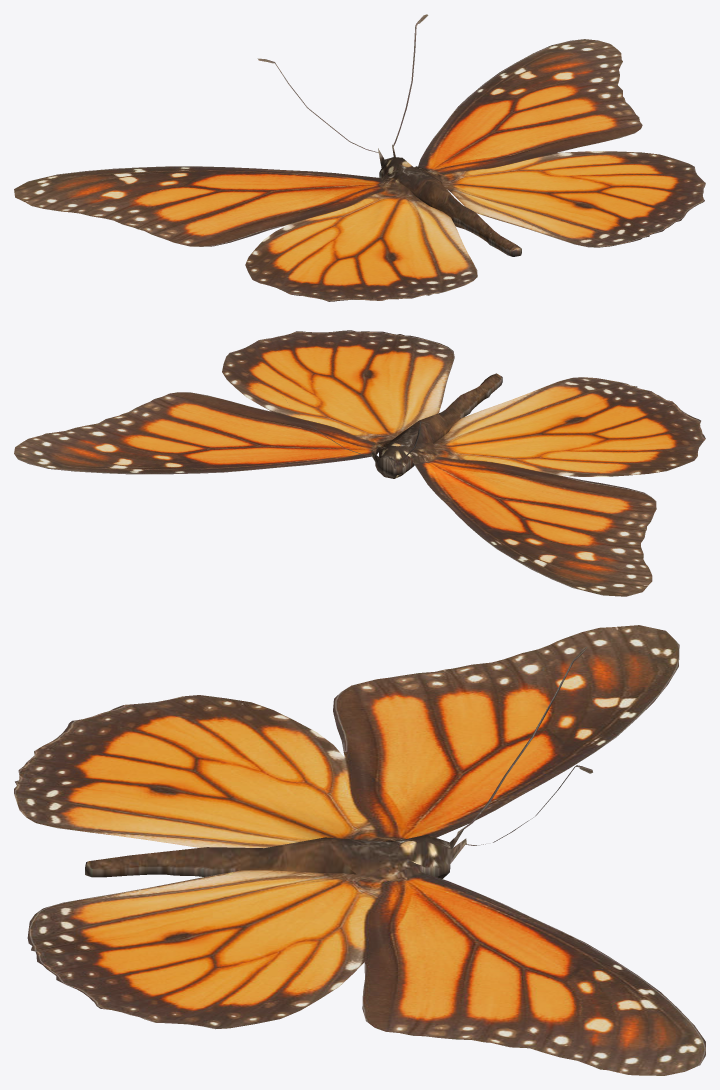
File: _butterfly.obj
3 views of the same model, one above another, from view 1: azimuth 30°, elevation 25°; view 2: azimuth 150°, elevation 25°; view 3: azimuth 270°, elevation 25° (orthographic). The views are drawn at different scales.
Parts seen in each view (by area): view 1: Wing_Left, Wing_Right, Body; view 2: Wing_Left, Wing_Right, Body; view 3: Wing_Left, Wing_Right, Body.
Boxes of the visible parts, left/top/right/bottom form: Wing_Left: left=14, top=166, right=477, bottom=301; Wing_Right: left=418, top=39, right=705, bottom=247; Body: left=257, top=14, right=521, bottom=256; Wing_Left: left=412, top=377, right=705, bottom=596; Wing_Right: left=14, top=330, right=454, bottom=474; Body: left=252, top=373, right=502, bottom=478; Wing_Left: left=14, top=625, right=679, bottom=848; Wing_Right: left=27, top=870, right=705, bottom=1075; Body: left=85, top=646, right=592, bottom=881.
Bounding box in the file's own units: 228 × 41.15 × 148.
Materials: 1 (1 with a texture image).
